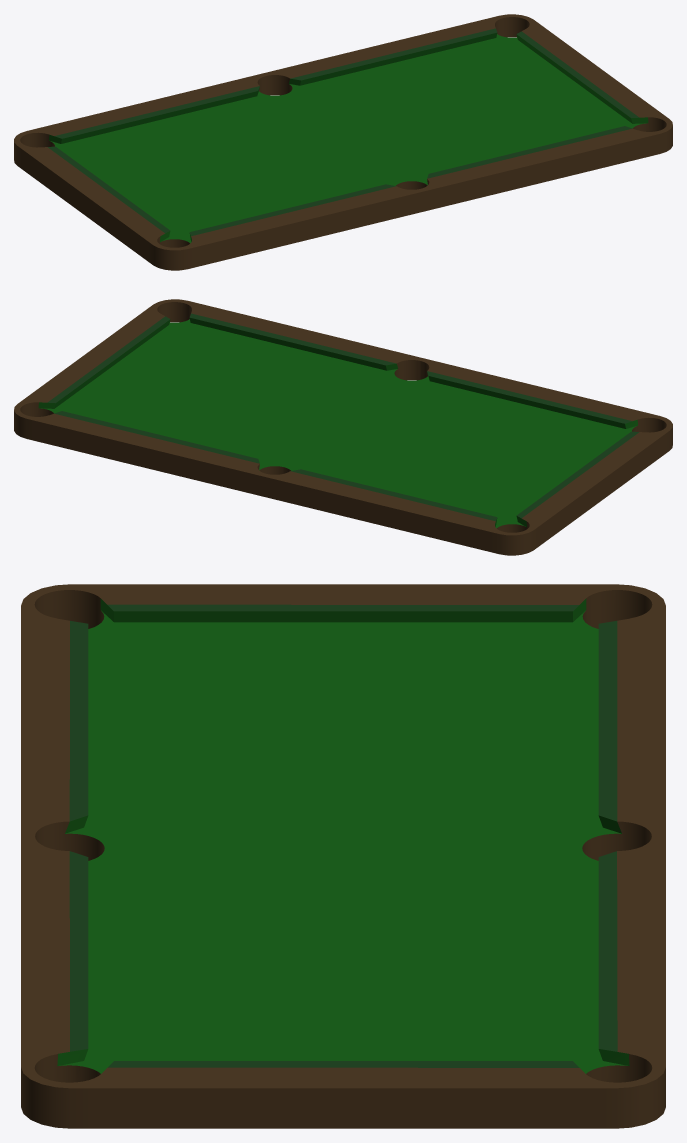
Rendered from pool_table8.glb.
3 renders of one model, top to bottom at view 1: azimuth 30°, elevation 25°; view 2: azimuth 150°, elevation 25°; view 3: azimuth 270°, elevation 25°, orthographic. The views are drawn at different scales.
Parts seen in each view (by area): view 1: Table; view 2: Table; view 3: Table.
Boxes of the visible parts, x1,y1,x2,y2 form: Table: (14,14,672,270); Table: (14,299,672,555); Table: (21,584,665,1128).
Size of the model in its own units: 4.43 by 0.1657 by 2.4.
